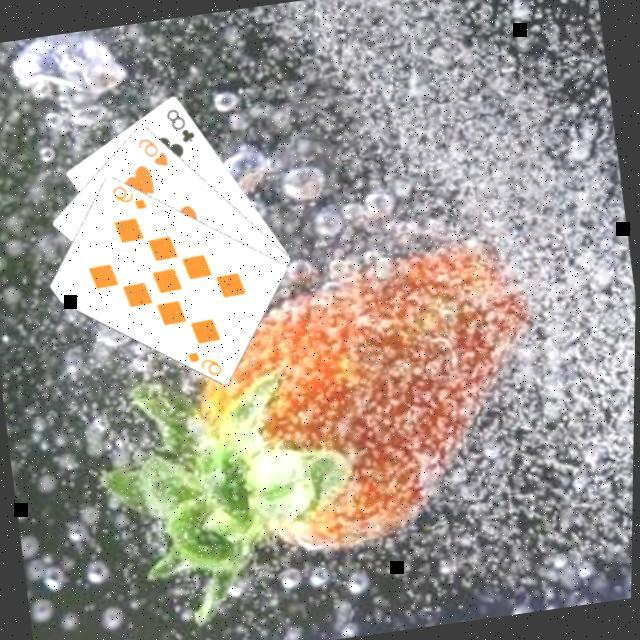6H: (135, 130, 174, 170)
8C: (162, 100, 202, 146)
9D: (185, 342, 228, 380), (110, 176, 152, 214)
